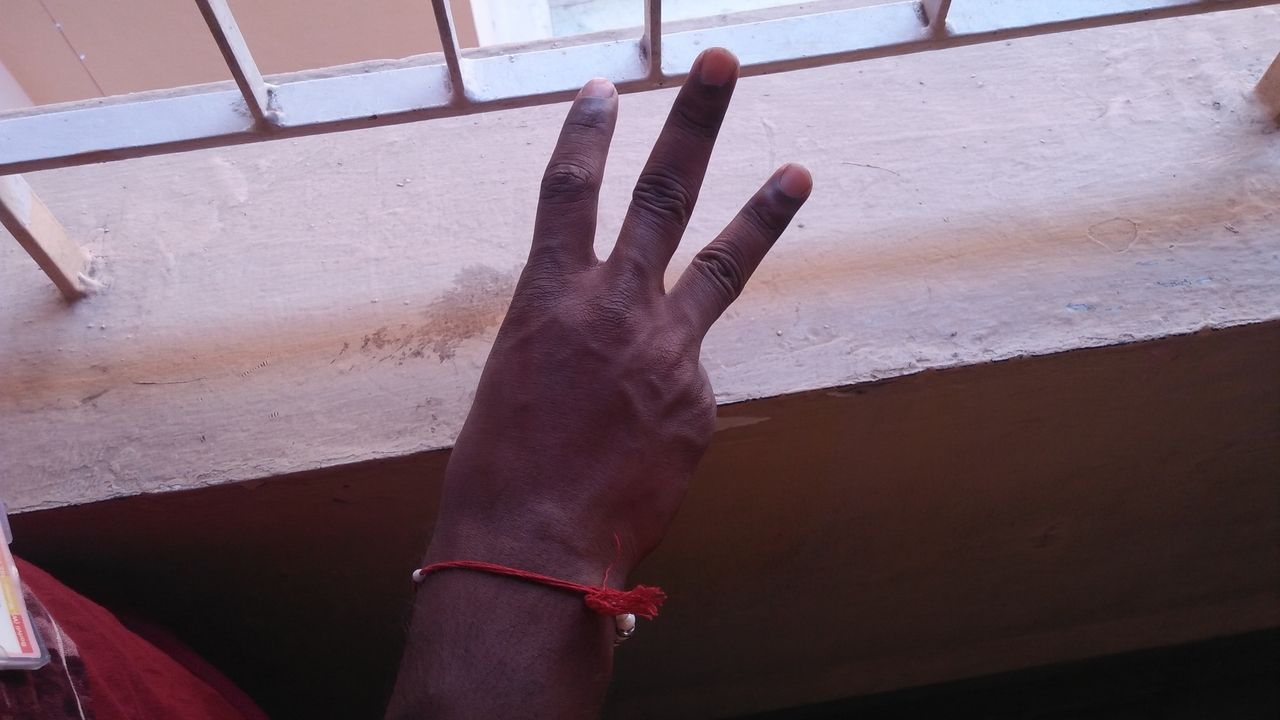fingertip: (760, 152, 820, 208), (570, 64, 622, 114), (686, 44, 740, 92)
